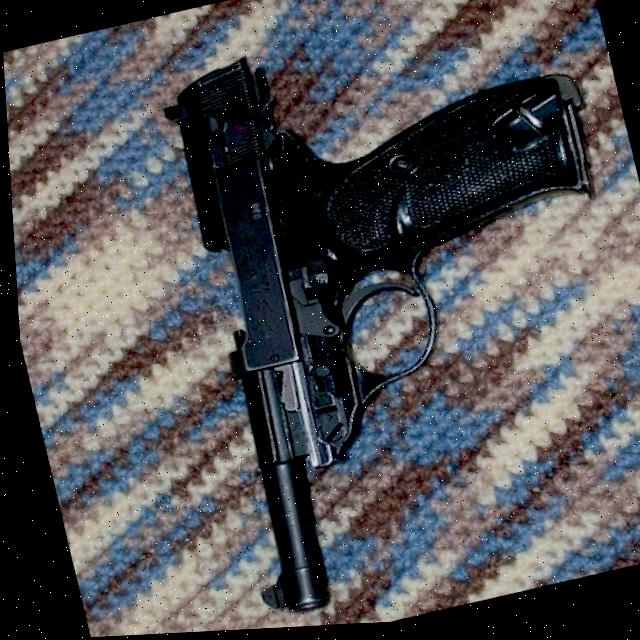pistol: (131, 0, 640, 628)
